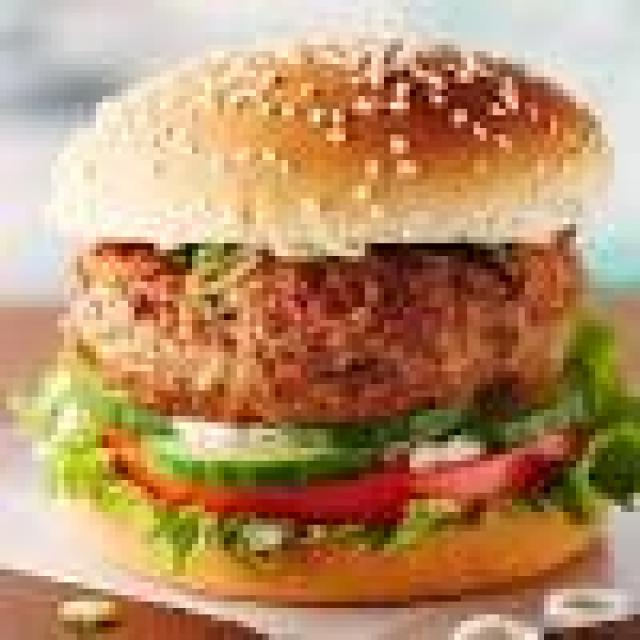햄버거: (26, 32, 640, 608)
